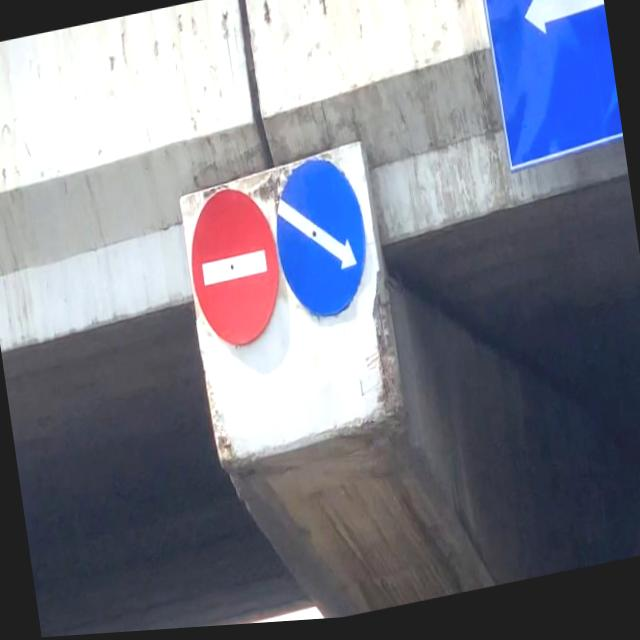Cam di nguoc chieu: (182, 183, 288, 358)
Vong chuong ngai vat sang phai: (266, 154, 376, 331)
